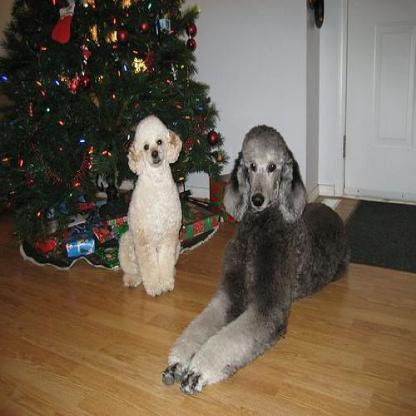standard_poodle: (158, 123, 356, 393), (118, 113, 180, 294)
